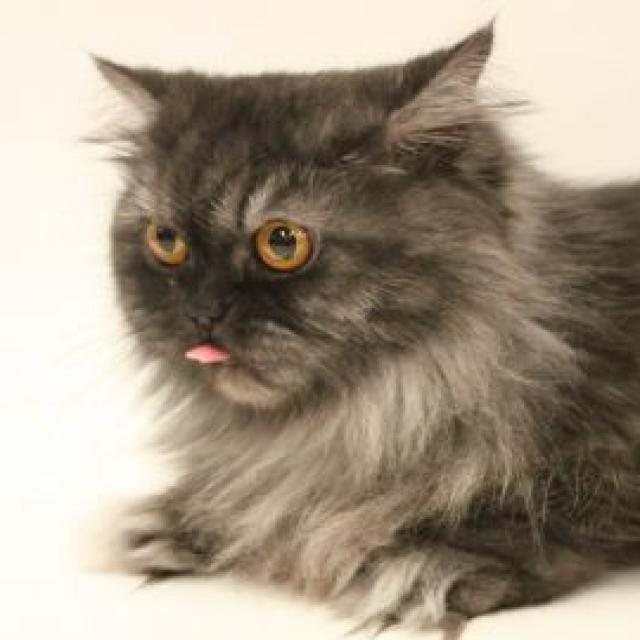Persian: (73, 9, 640, 640)
